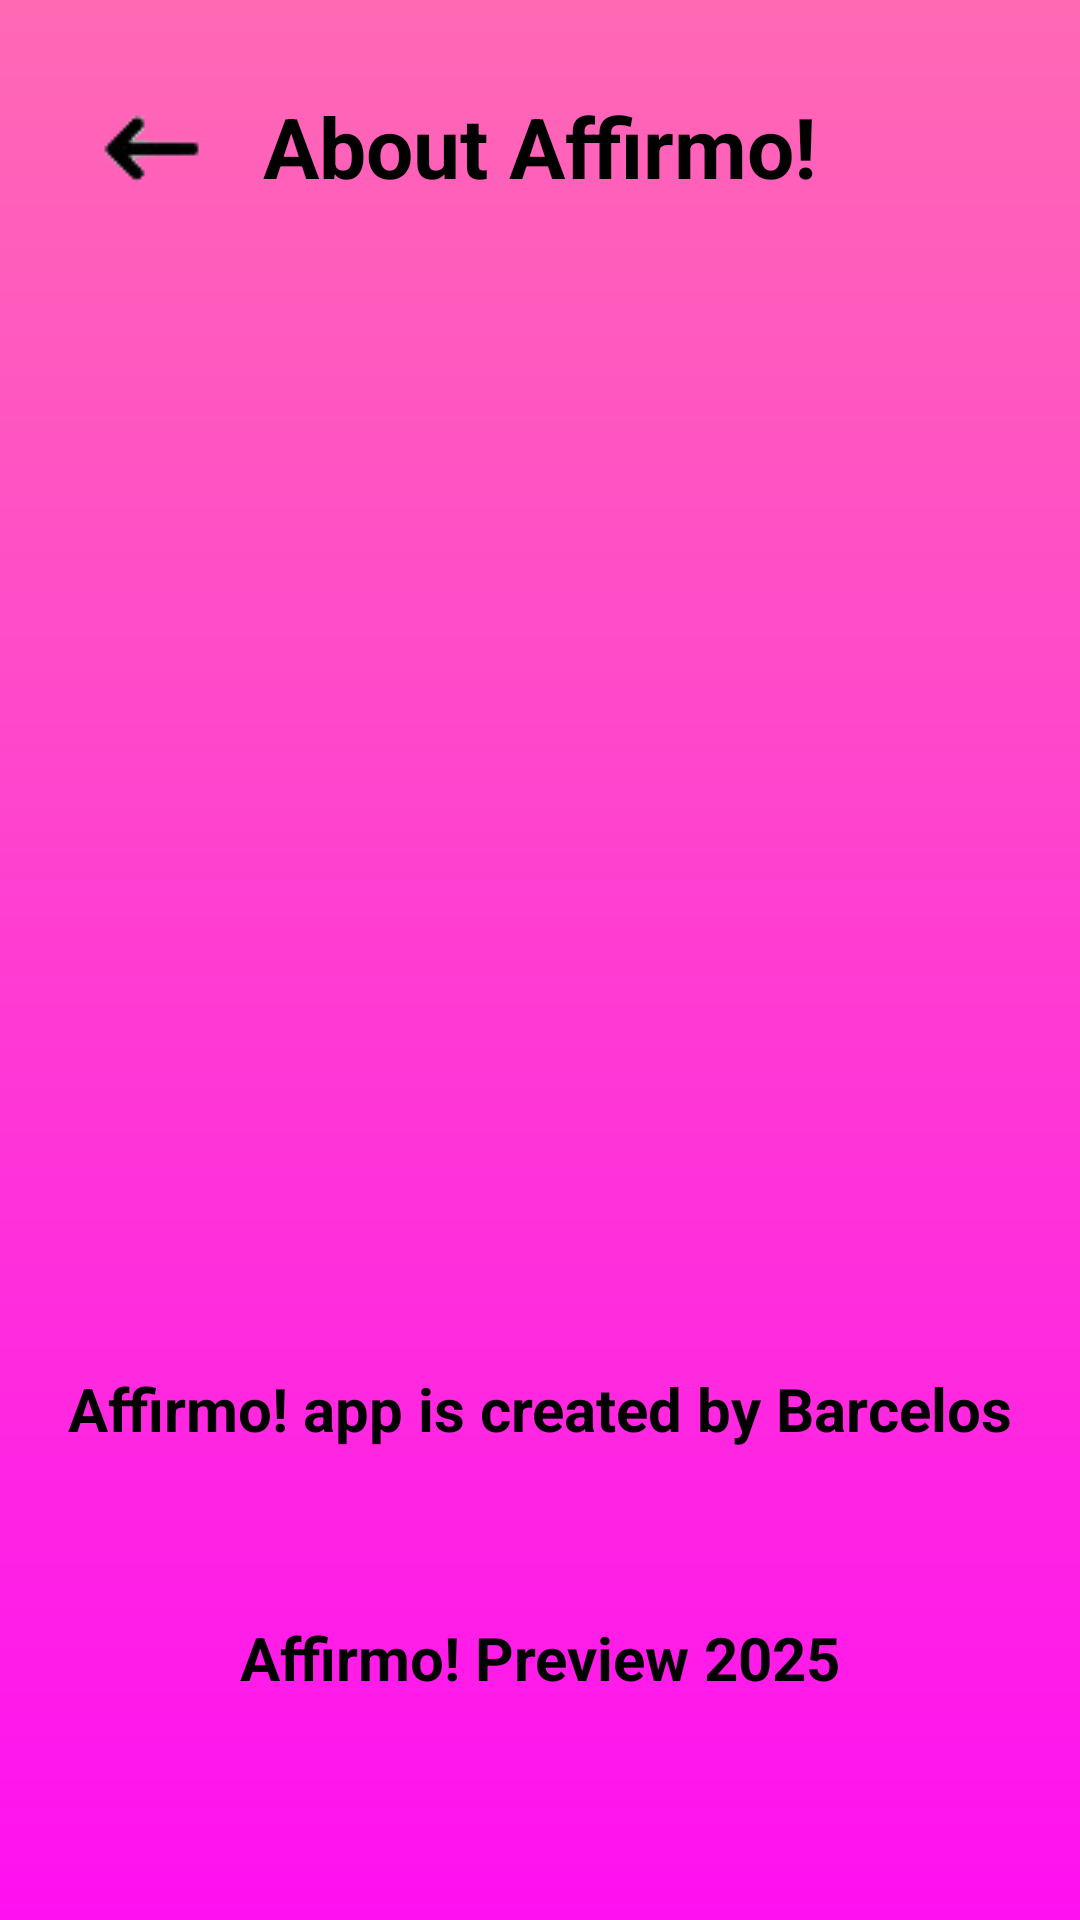

Where to tap for icons on this 1080 × 1920 app screen, as (x=x, y=y):
Return: (x=151, y=148)
